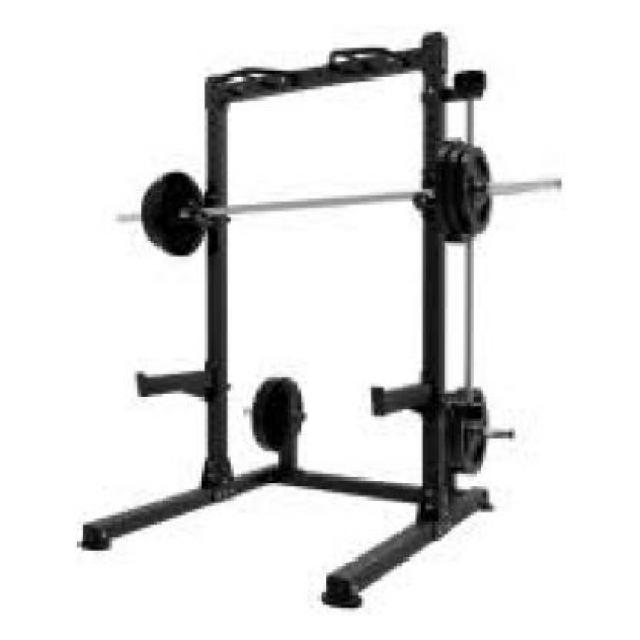smith machine: (82, 29, 563, 611)
